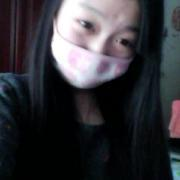WRONG: (52, 1, 139, 88)
